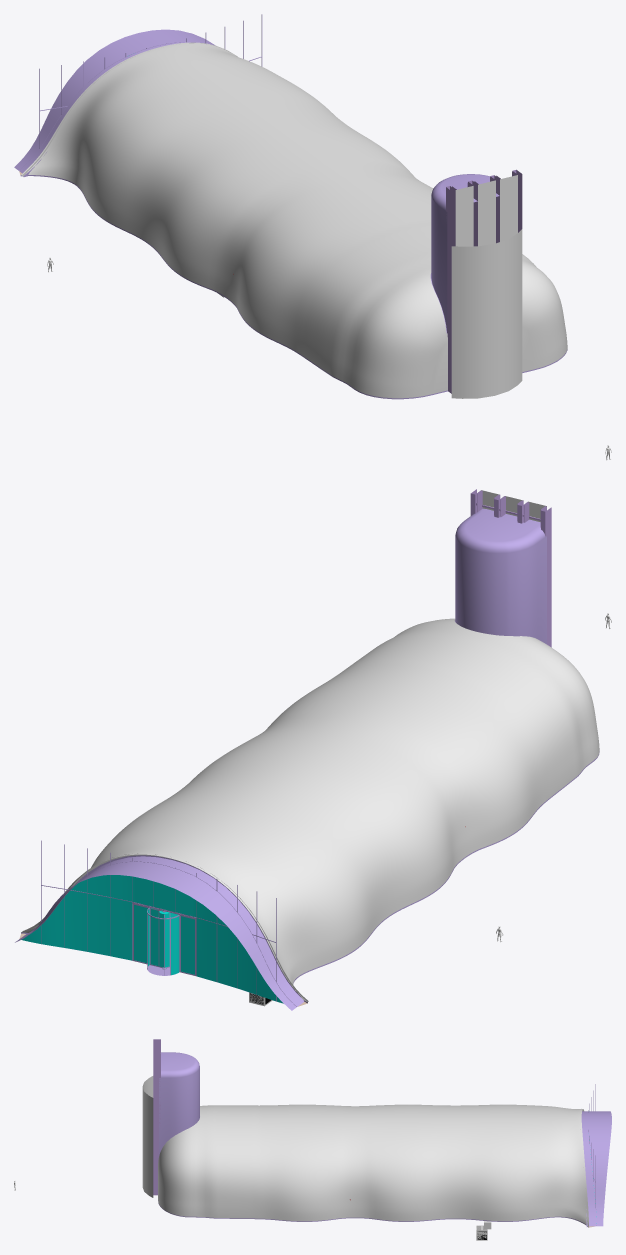
The model's file is MOTF_Int.fbx.
3 views of the same model, one above another, from view 1: azimuth 30°, elevation 25°; view 2: azimuth 150°, elevation 25°; view 3: azimuth 270°, elevation 25° (orthographic). The views are drawn at different scales.
Visible parts, largest first — view 1: Walls, Walls.004, Walls.005, Entrance, Walls.003; view 2: Walls, EntranceGlass, Walls.003, Entrance, Walls.005, EntranceDoor; view 3: Walls, Walls.003, Entrance, Walls.004, Walls.005.
Part boxes in pixels (x1,y1,x2,y2): Walls: [20, 42, 567, 399]; Walls.004: [451, 229, 522, 398]; Walls.005: [446, 169, 522, 393]; Entrance: [14, 14, 262, 176]; Walls.003: [430, 174, 499, 333]; Walls: [21, 618, 599, 1003]; EntranceGlass: [21, 875, 283, 1003]; Walls.003: [455, 508, 546, 644]; Entrance: [15, 840, 308, 1010]; Walls.005: [470, 489, 551, 647]; EntranceDoor: [150, 908, 178, 975]; Walls: [158, 1104, 588, 1227]; Walls.003: [159, 1052, 199, 1155]; Entrance: [581, 1084, 611, 1226]; Walls.004: [142, 1076, 153, 1197]; Walls.005: [153, 1039, 160, 1195].
Size of the model in its own units: 4687 by 3711 by 10528.
